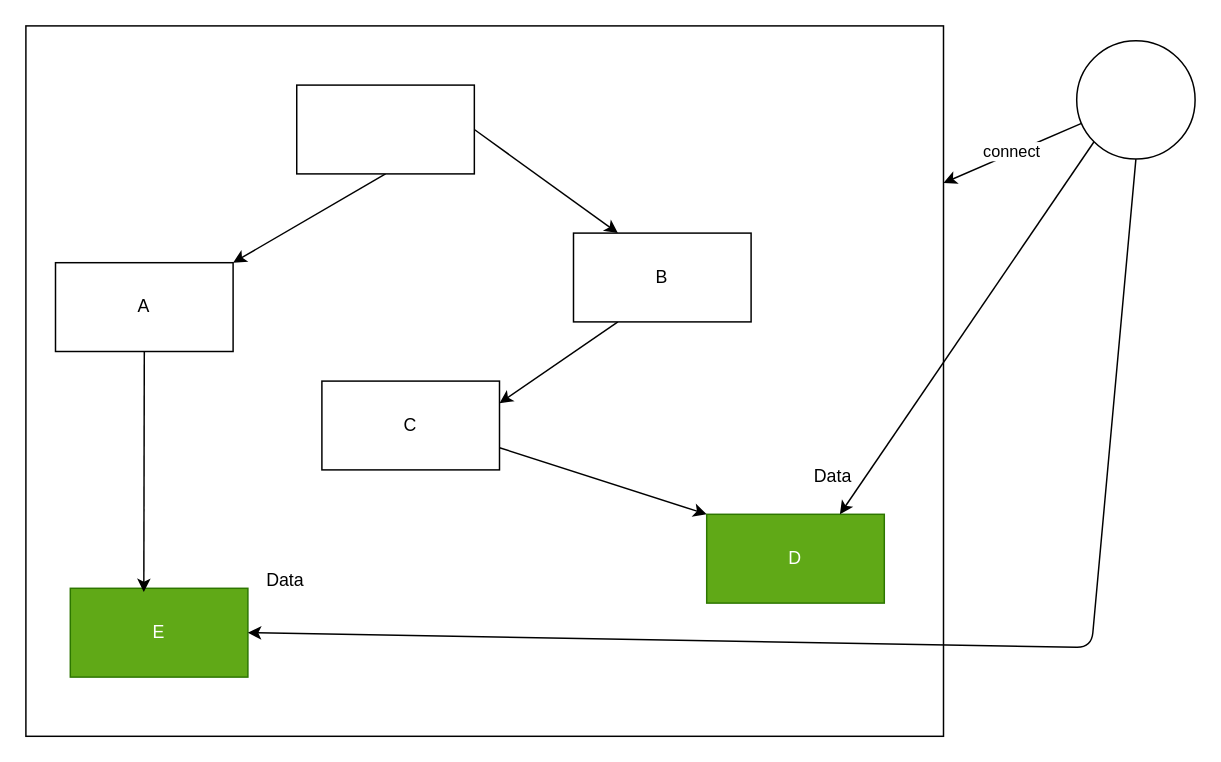
Some shapes in this 1221 by 762 pixel diagram are drawn without their labels. The shapes that lost their labels are listed below. From the top down, each one's box as (x1, y1, x2, y2) in pixels, then its label:
(1075, 39, 1195, 159): Context
(295, 84, 474, 174): App
